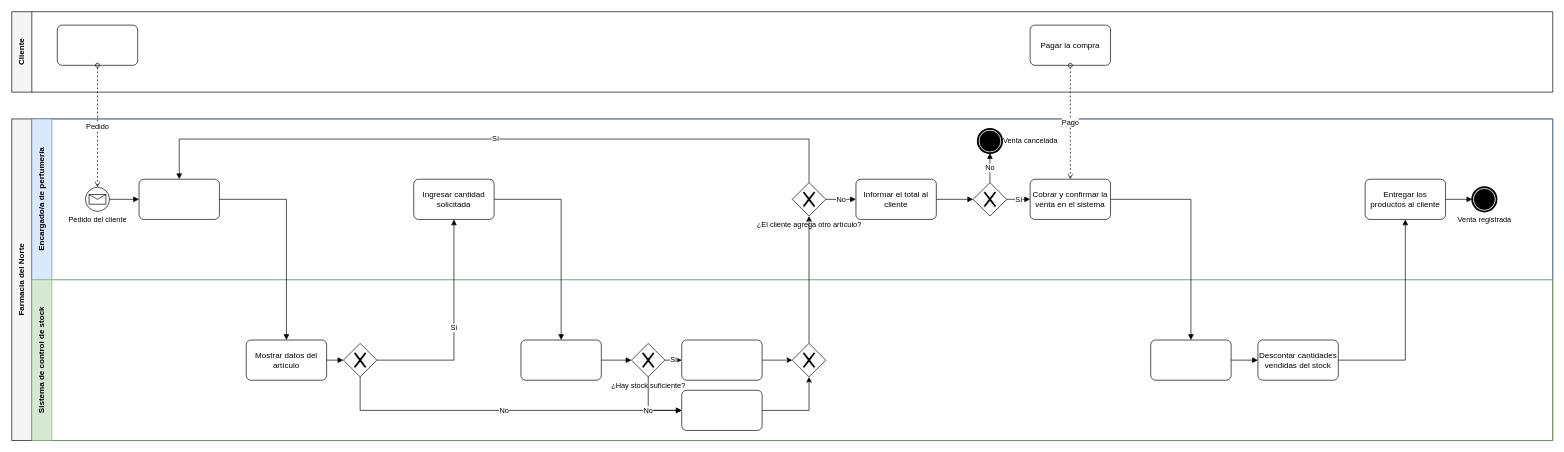
This 1564x452 diagram has some shape labels left out. The centre of each missing label's shape, as x and y in pixels:
Agregar ítem a la venta y recalcular el total: the point at 721,359
Buscar artículo en el sistema (código o nombre): the point at 178,199
Mostrar aviso: artículo inexistente o sin stock suficiente: the point at 721,410
Registrar la venta: the point at 1190,359
Solicitar producto: the point at 97,44
Verificar stock disponible: the point at 560,359
¿El cliente confirma la compra?: the point at 990,199
¿Existe el artículo?: the point at 360,360
